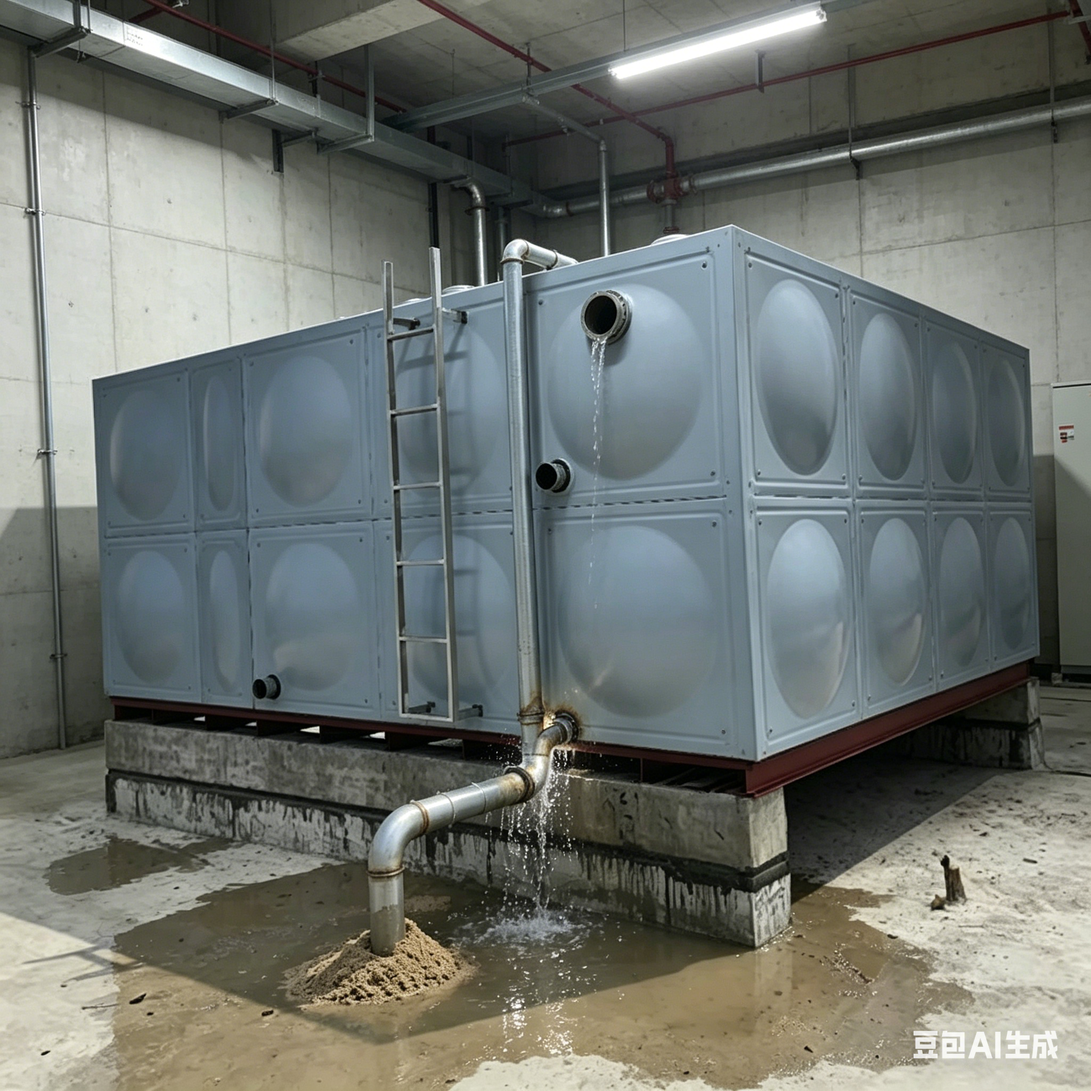Leakage: (614, 880, 933, 1079), (118, 939, 469, 1091), (481, 664, 600, 1055), (537, 299, 656, 604), (221, 860, 487, 937), (24, 836, 187, 888)
